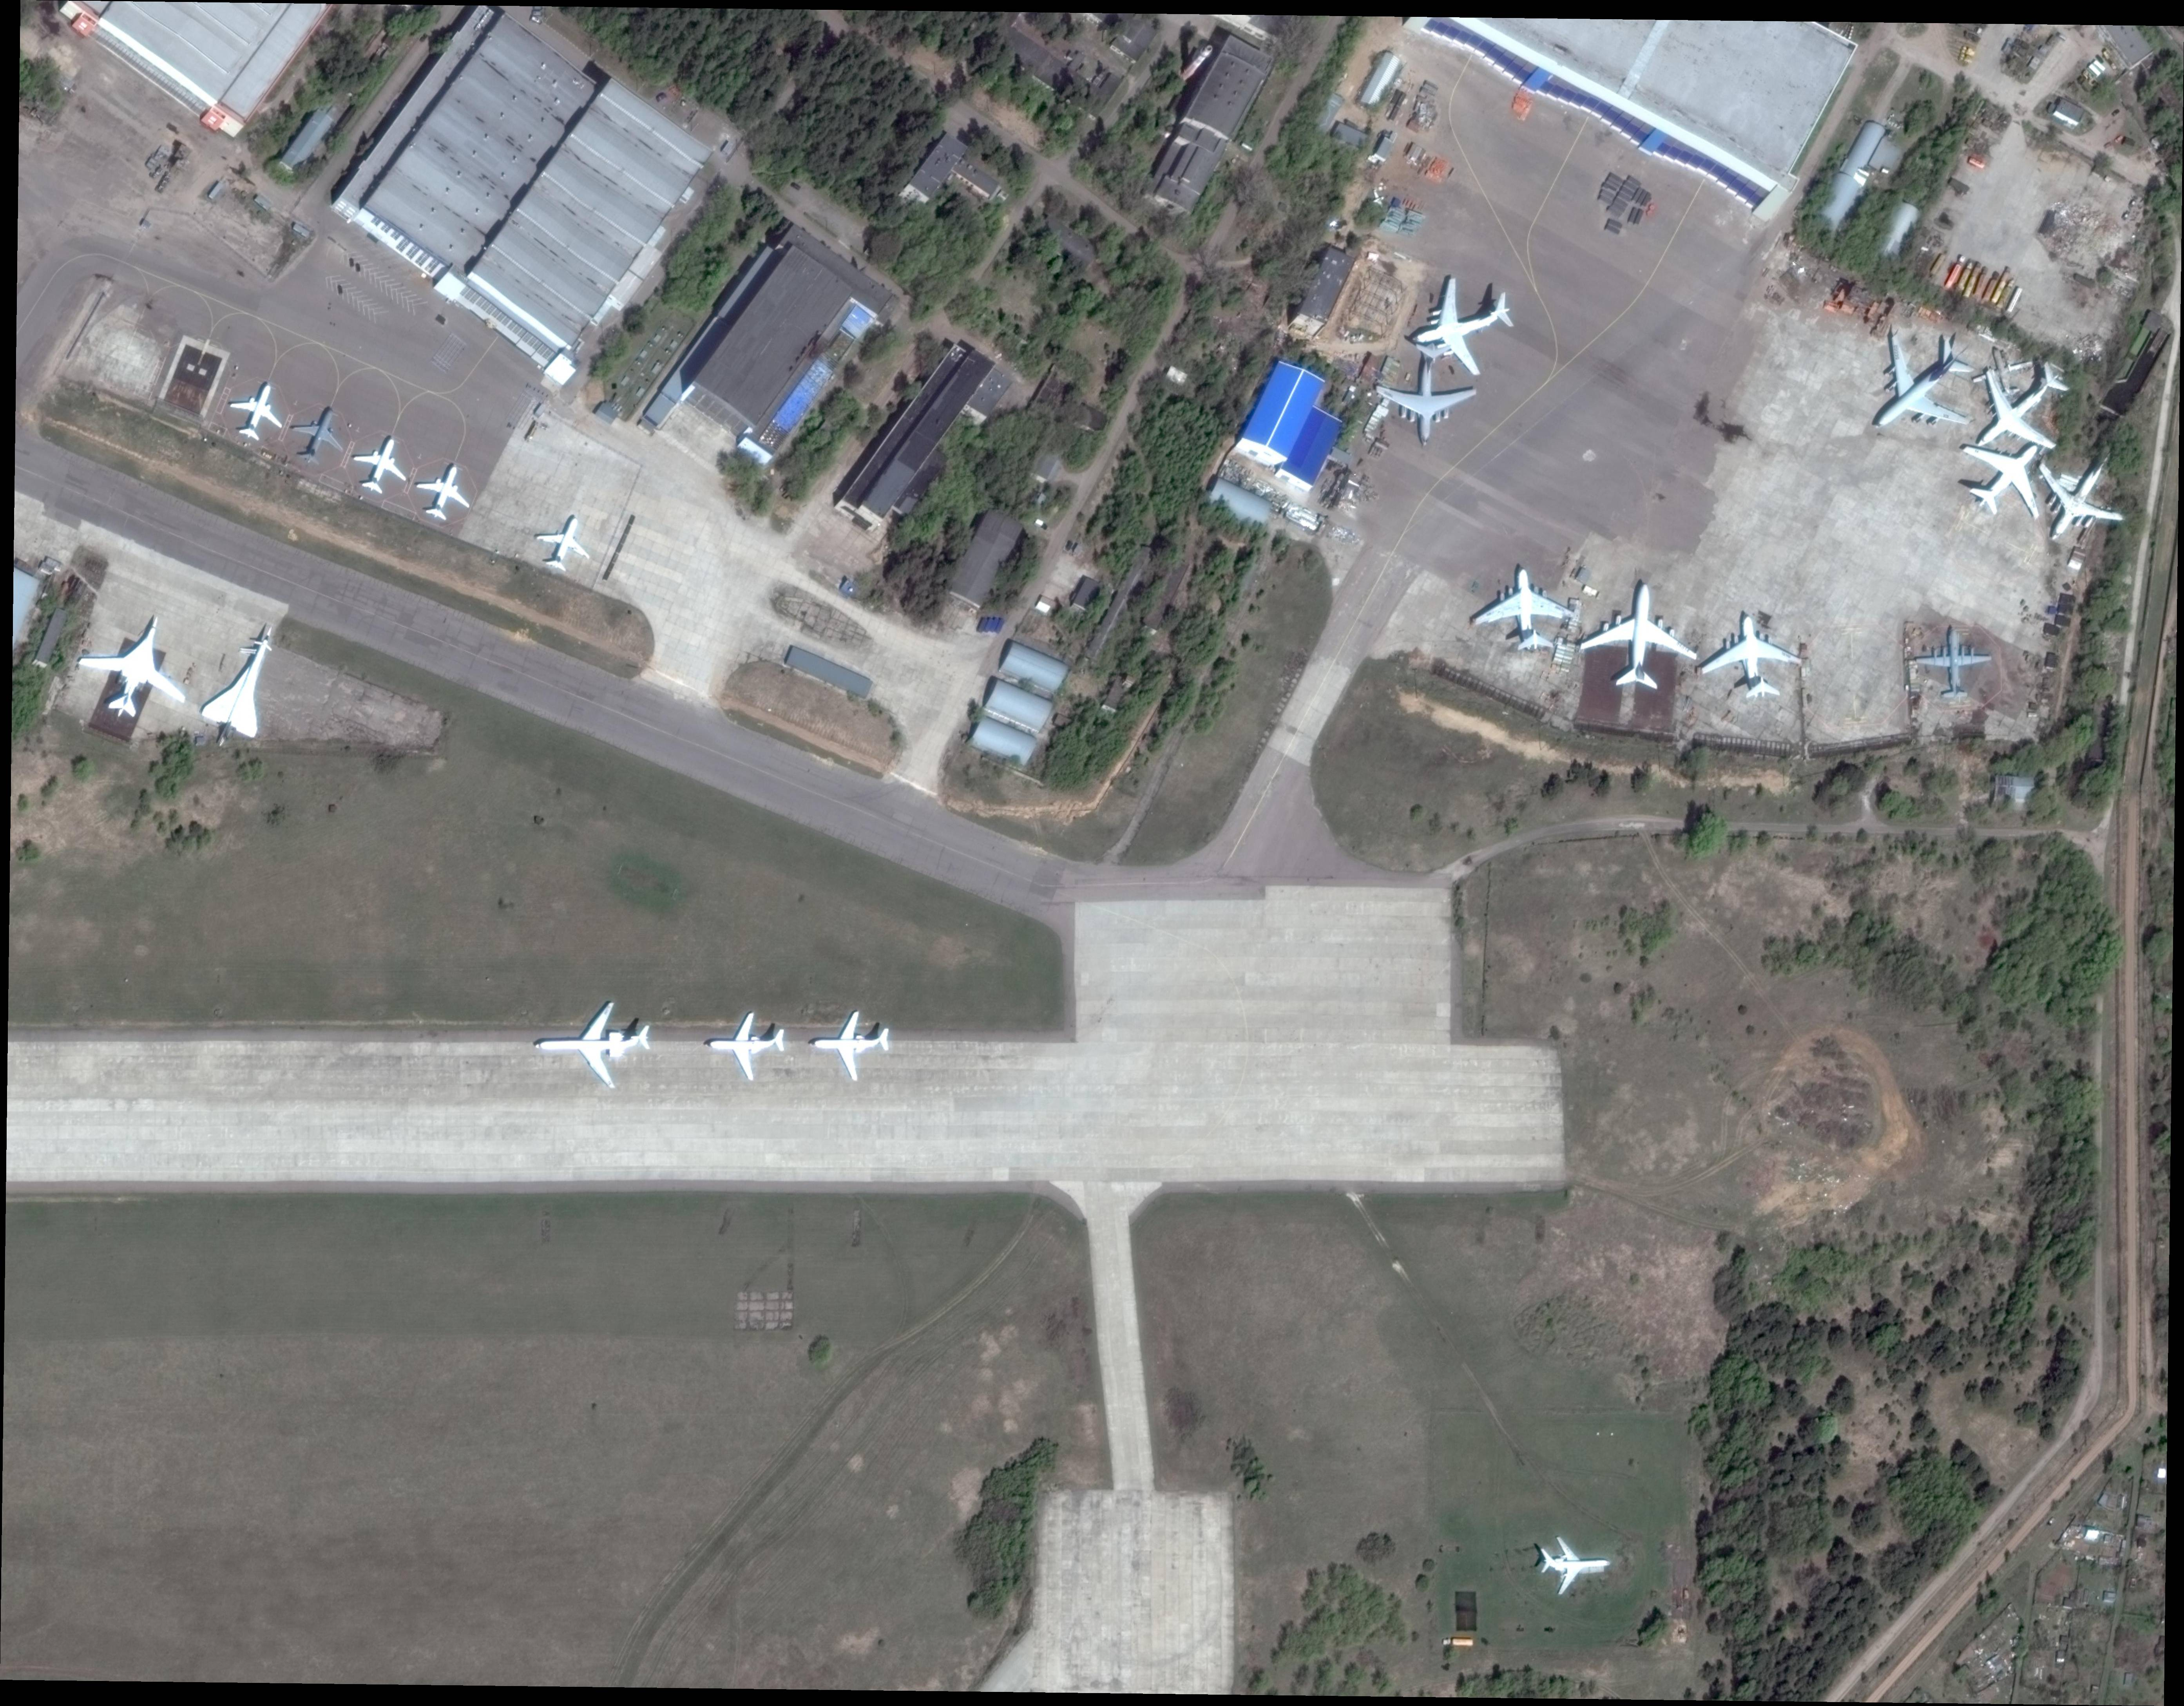plane: (1829, 305, 2005, 468), (1945, 337, 2092, 482), (67, 597, 204, 737), (2014, 432, 2143, 563), (191, 611, 298, 753), (1945, 415, 2069, 535), (1400, 269, 1526, 384), (1580, 576, 1698, 694), (1374, 342, 1477, 448), (534, 1001, 652, 1090), (1696, 611, 1806, 696), (1468, 567, 1576, 652), (1913, 625, 1994, 696), (344, 423, 417, 501), (707, 1010, 789, 1079), (526, 503, 601, 578), (810, 1012, 892, 1079), (408, 454, 480, 528), (222, 372, 293, 448), (284, 397, 353, 471), (1539, 1534, 1610, 1594), (1968, 342, 2035, 400)
